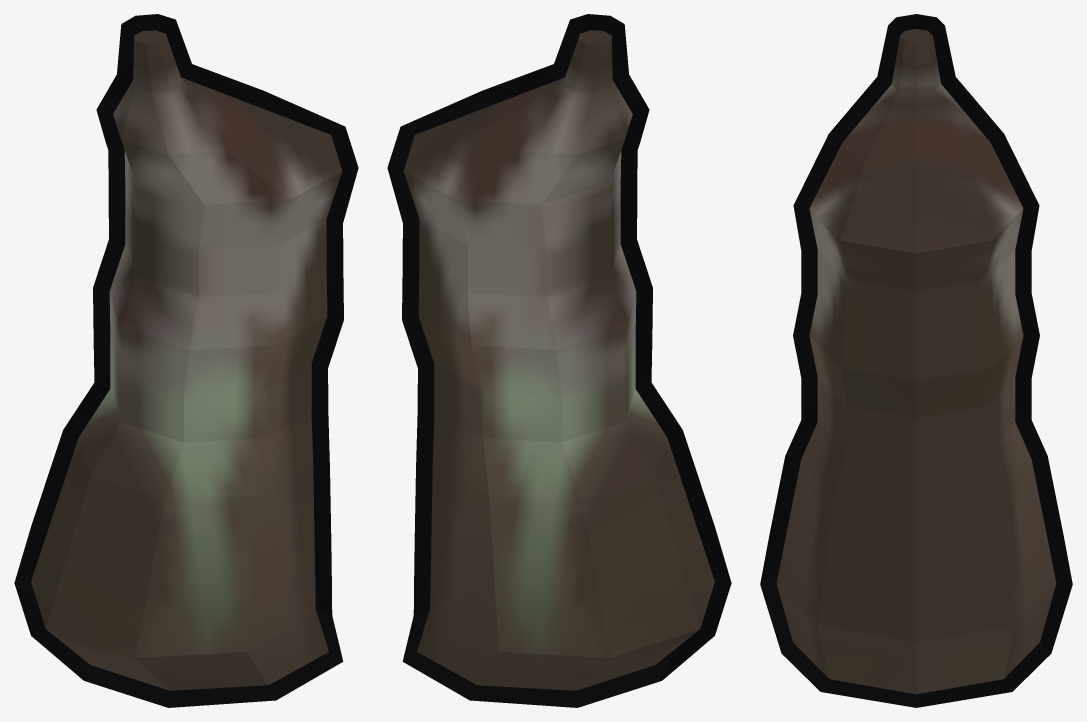
The model's file is Plant_SmashedStump_Polluted_Things_Plant_Stumps_PollutedSmashed_StumpSmashedPollutedC.glb.
3 renders of one model, left to right at view 1: azimuth 30°, elevation 25°; view 2: azimuth 150°, elevation 25°; view 3: azimuth 270°, elevation 25°, orthographic. The views are drawn at different scales.
Visible parts, largest first — view 1: Body, Outline; view 2: Body, Outline; view 3: Body, Outline.
Part boxes in pixels (x1=…): Body: x1=31, y1=30, x2=342, y2=690; Outline: x1=14, y1=14, x2=358, y2=707; Body: x1=403, y1=30, x2=714, y2=690; Outline: x1=387, y1=14, x2=731, y2=707; Body: x1=776, y1=29, x2=1056, y2=694; Outline: x1=760, y1=14, x2=1072, y2=707.
Bounding box in the file's own units: 0.1635 × 0.3203 × 0.1483.
2 materials, 1 textured.
